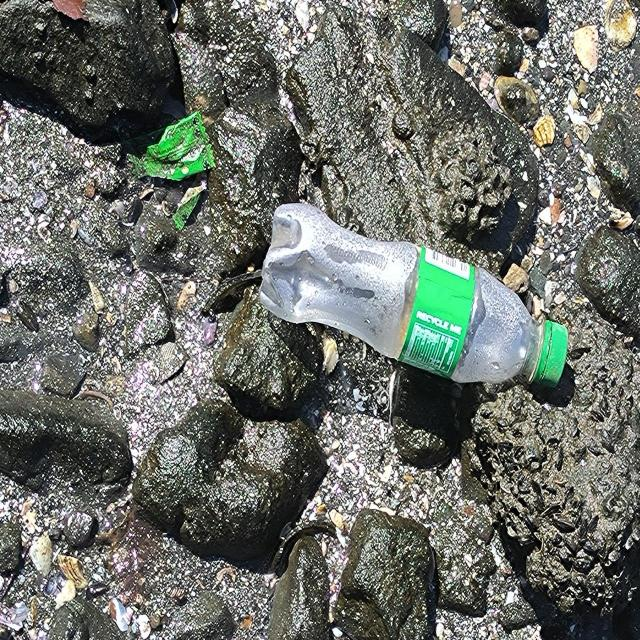plastic_waste: (259, 203, 571, 387), (122, 109, 219, 183)
